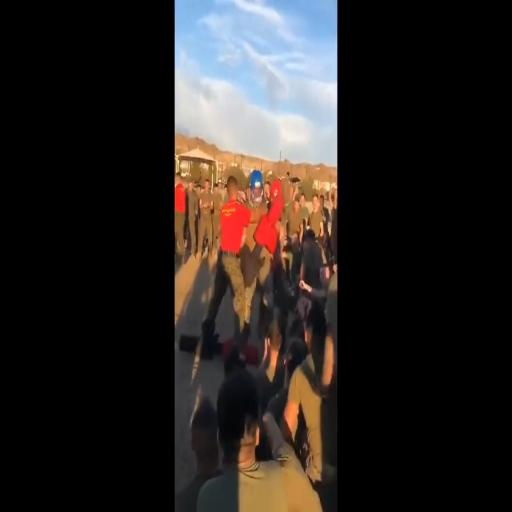violencia: (210, 156, 296, 378)
